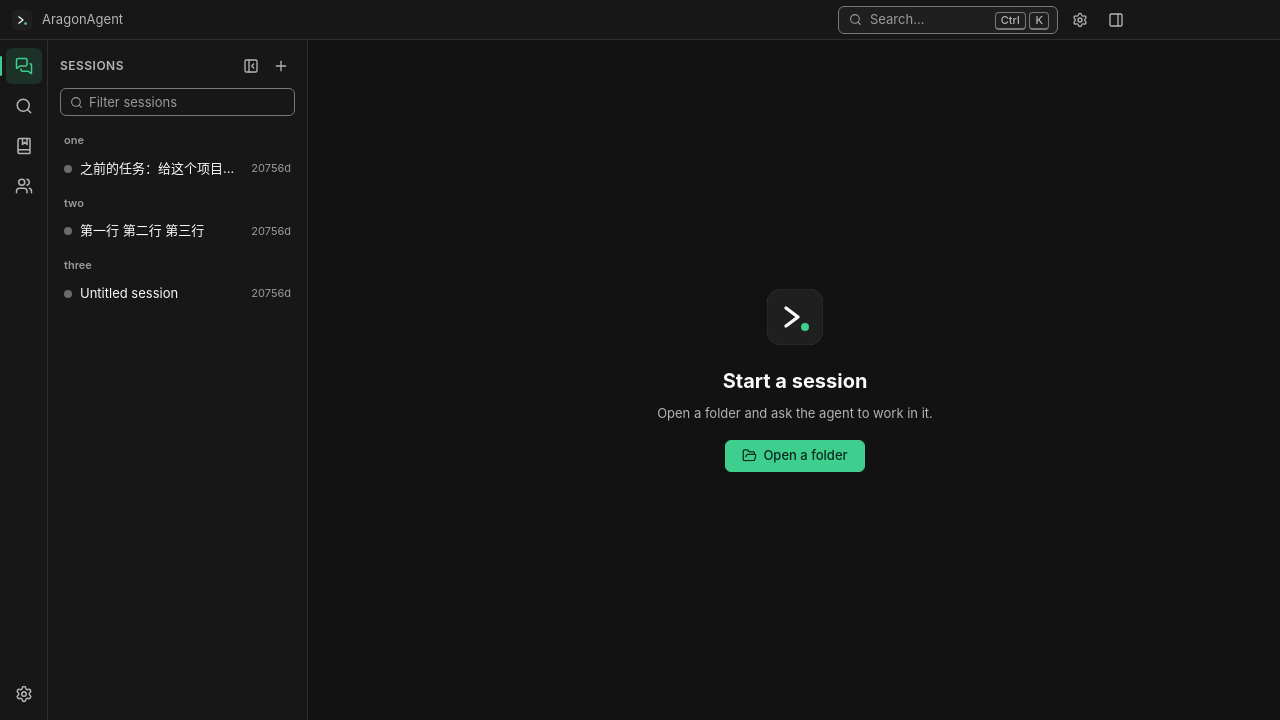
the sidebar still has four ways to be toggled › the rail Sessions button reflects and flips the sidebar (aria-pressed follows visibility)
This screenshot has width=1280, height=720.
Click the button named "Sessions" at (24, 66), box top-left (6, 48), bottom-right (42, 84)
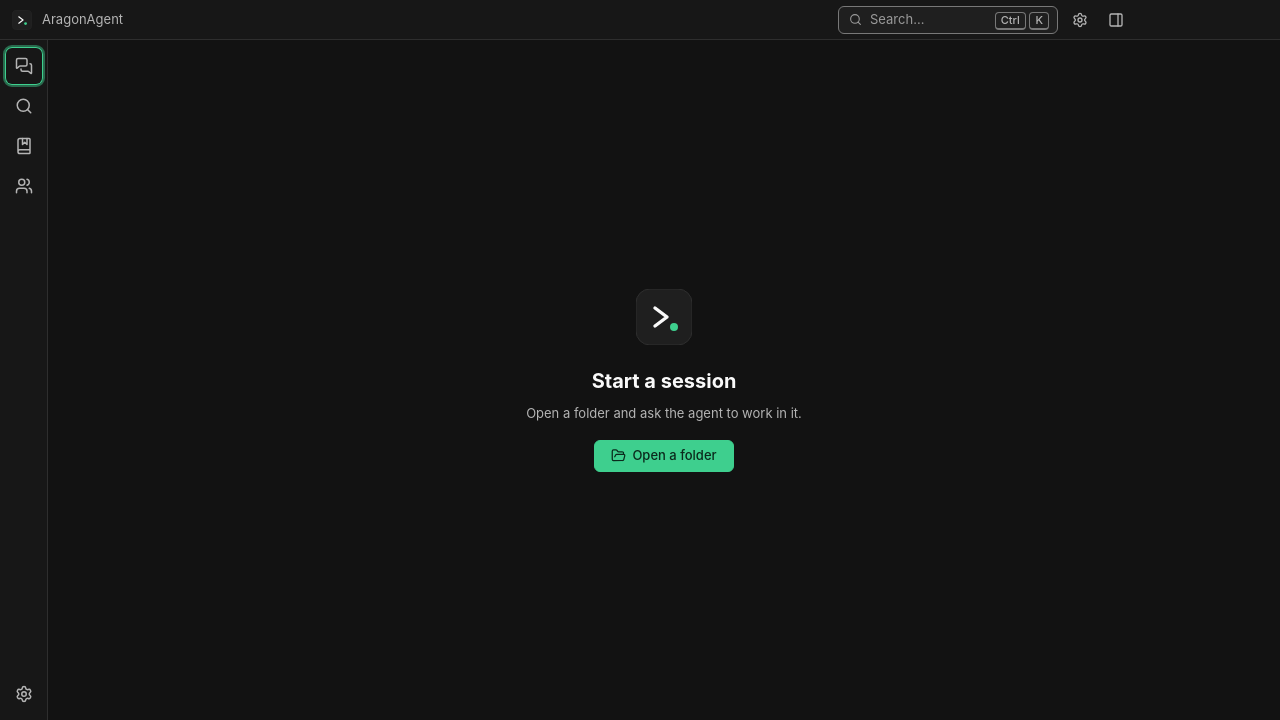
expect the button with class "sidebar" is gone: met
Click the button named "Sessions" at (24, 66), box top-left (6, 48), bottom-right (42, 84)
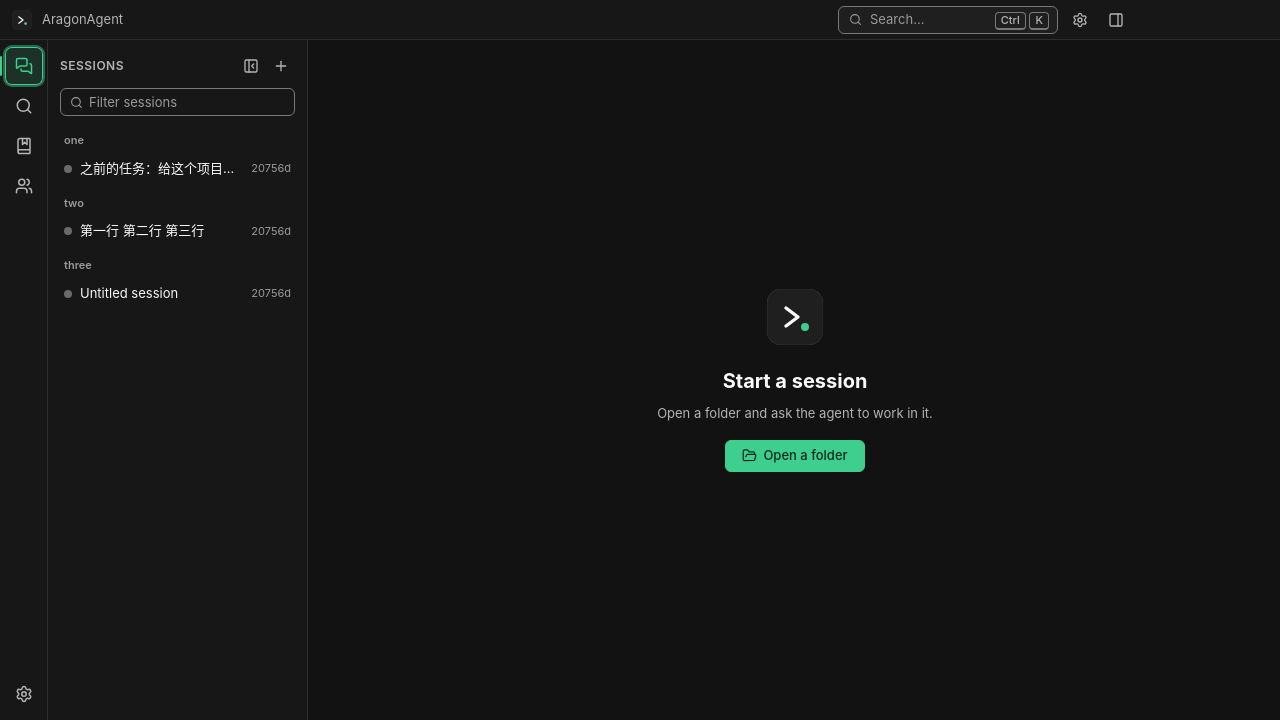
expect the element with class "sidebar" is shown: met, box top-left (48, 40), bottom-right (308, 719)
